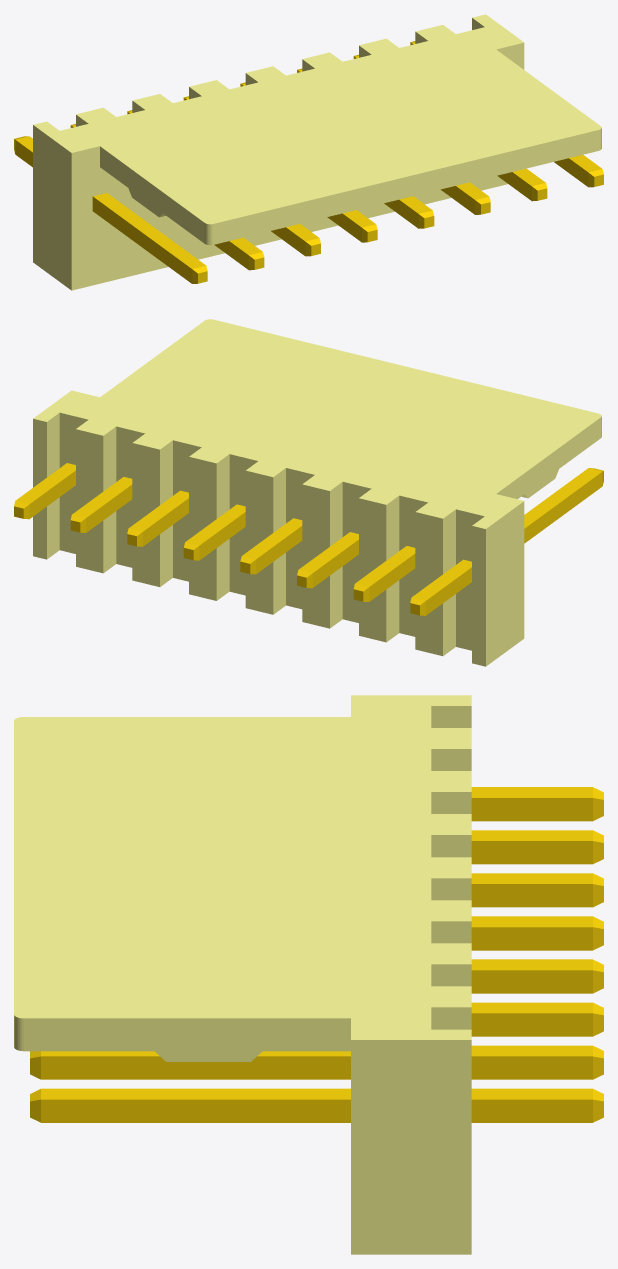
The model's file is DS1070-8 (WF-8 CONNFLY).obj.
The picture shows the model from 3 angles, top to bottom: view 1: azimuth 30°, elevation 25°; view 2: azimuth 150°, elevation 25°; view 3: azimuth 270°, elevation 25°; orthographic projection. The views are drawn at different scales.
Visible parts, largest first — view 1: DS1070-8_(WF-8_CONNFLY); view 2: DS1070-8_(WF-8_CONNFLY); view 3: DS1070-8_(WF-8_CONNFLY).
Boxes of the visible parts, x1,y1,x2,y2 form: DS1070-8_(WF-8_CONNFLY): (14,14,603,290); DS1070-8_(WF-8_CONNFLY): (14,319,603,666); DS1070-8_(WF-8_CONNFLY): (14,695,603,1254).
Size of the model in its own units: 0.0241 by 0.00698 by 0.0174.
